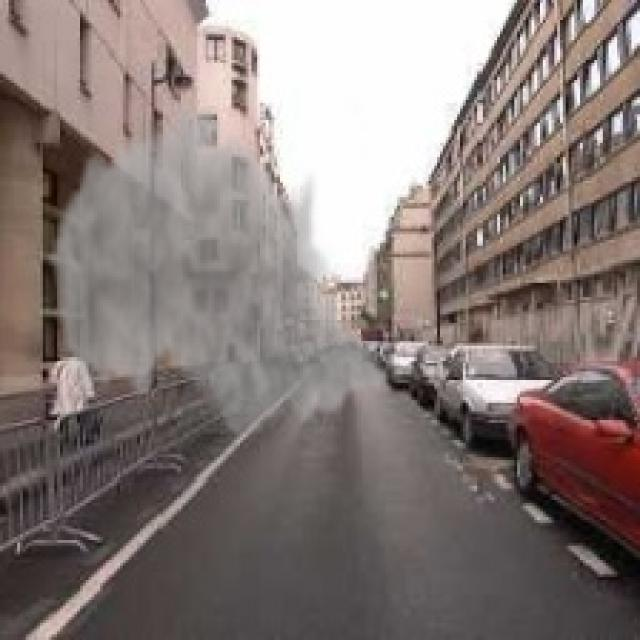smoke: (46, 91, 394, 448)
